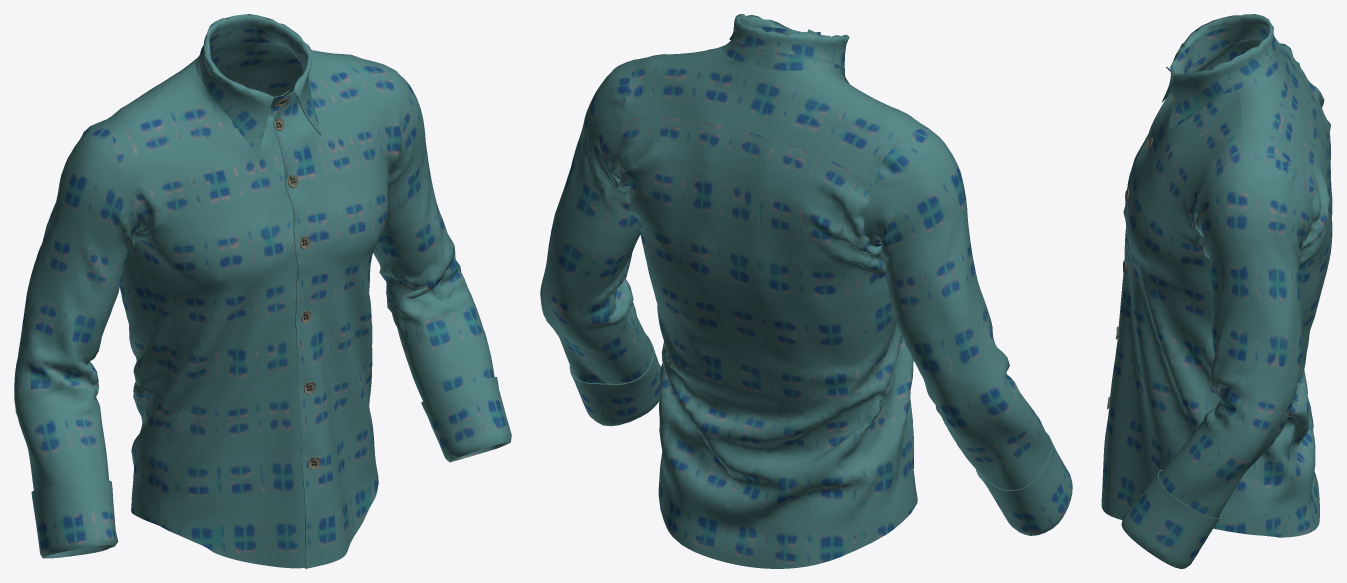
3 renders of one model, left to right at view 1: azimuth 30°, elevation 25°; view 2: azimuth 150°, elevation 25°; view 3: azimuth 270°, elevation 25°, orthographic. The views are drawn at different scales.
Visible parts, largest first — view 1: Shirt01objcleaner; view 2: Shirt01objcleaner; view 3: Shirt01objcleaner.
Boxes of the visible parts, left/top/right/bottom form: Shirt01objcleaner: left=14, top=14, right=511, bottom=568; Shirt01objcleaner: left=540, top=14, right=1072, bottom=568; Shirt01objcleaner: left=1101, top=14, right=1332, bottom=568.
Size of the model in its own units: 0.6443 by 0.6587 by 0.2865.
2 materials, 2 textured.
